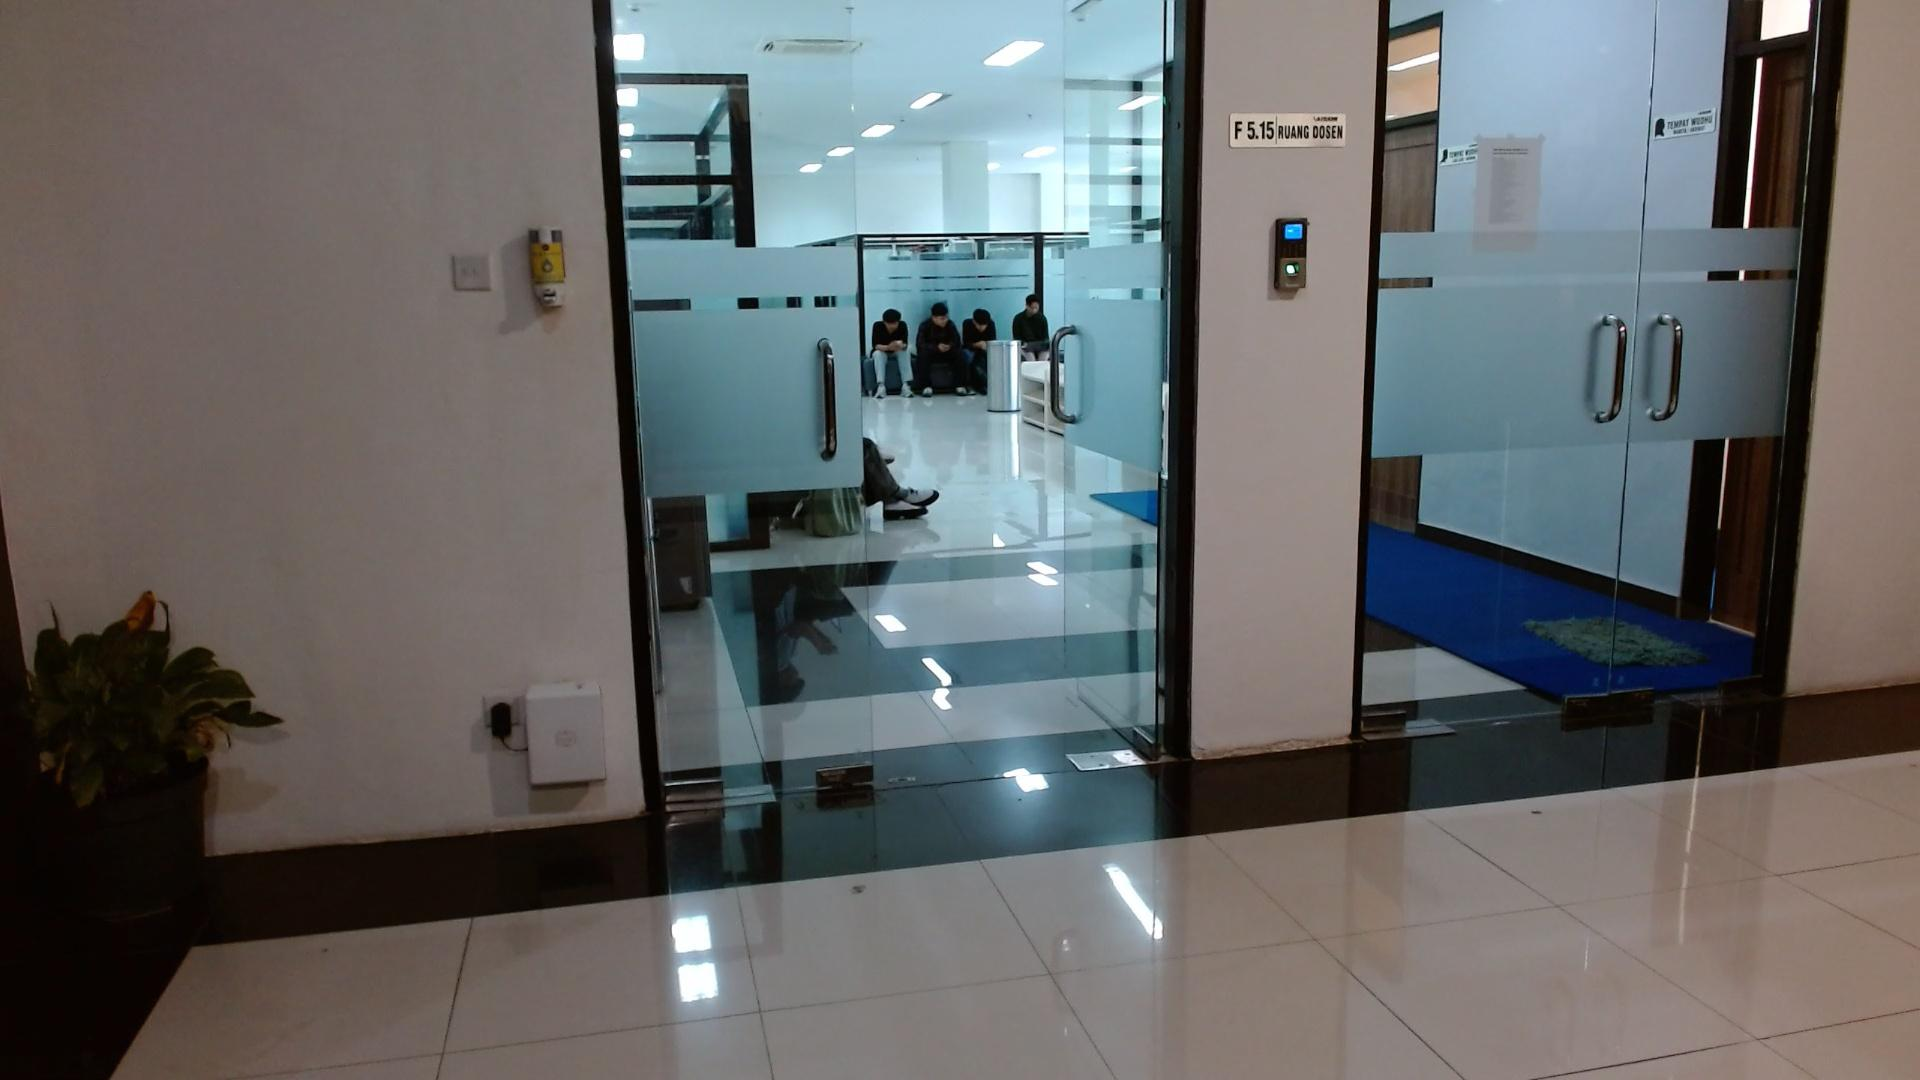plate: (1229, 112, 1346, 148)
